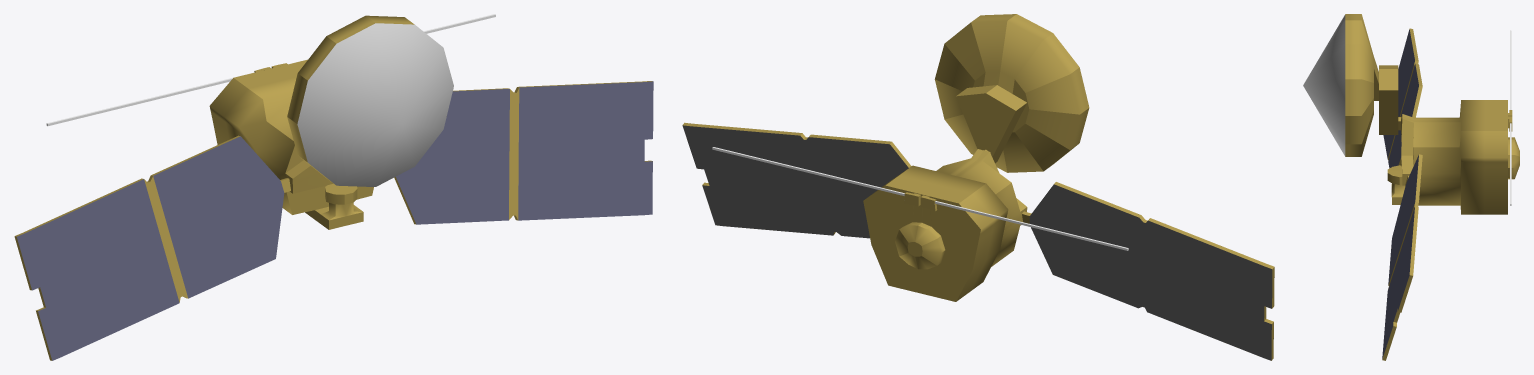
The model's file is mro.glb.
3 renders of one model, left to right at view 1: azimuth 30°, elevation 25°; view 2: azimuth 150°, elevation 25°; view 3: azimuth 270°, elevation 25°, orthographic. The views are drawn at different scales.
Parts seen in each view (by area): view 1: MRO; view 2: MRO; view 3: MRO.
Part boxes in pixels (x1,y1,x2,y2): MRO: [14, 14, 653, 360]; MRO: [682, 14, 1274, 360]; MRO: [1303, 14, 1519, 360].
Bounding box in the file's own units: 9.46 × 4.01 × 3.52.
2 materials, 2 textured.
